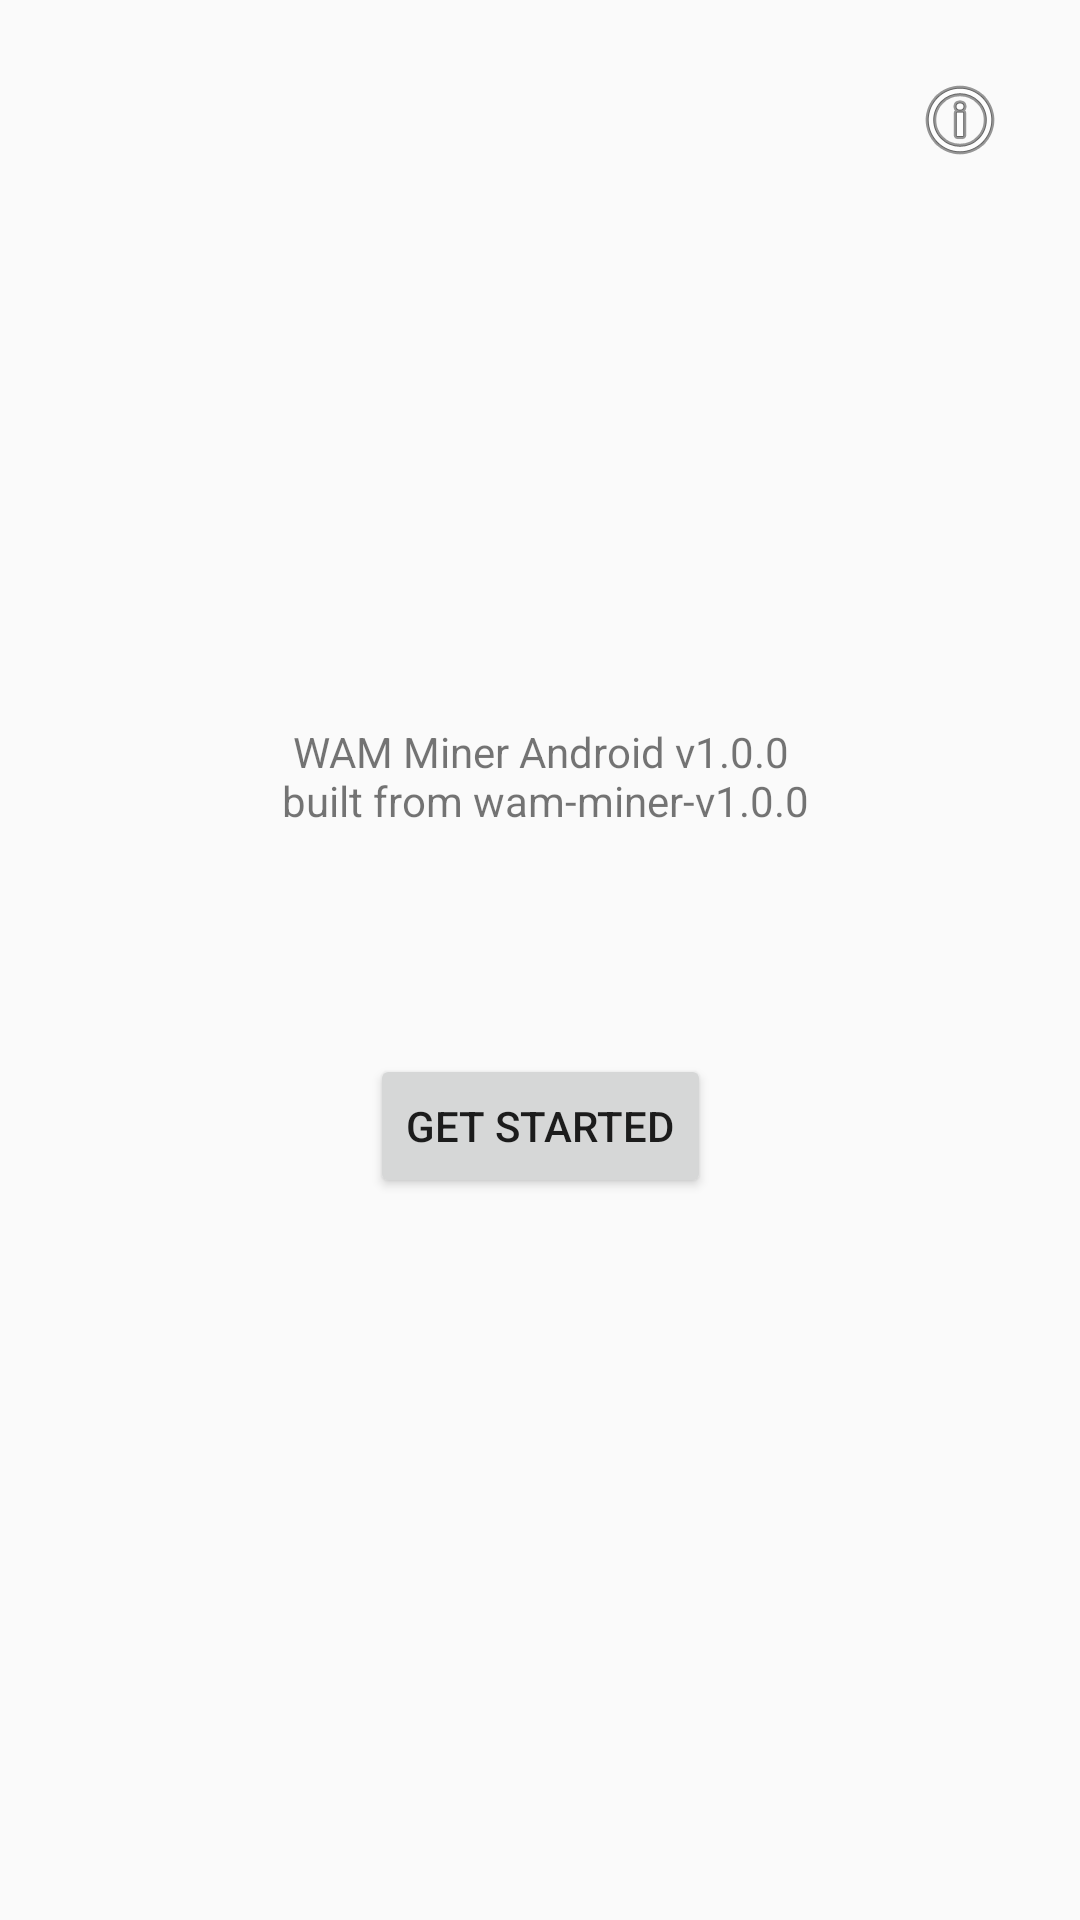

Screen size 1080x1920. Icon name, then its center in pixels as (x,y):
About App Info: (960,120)
